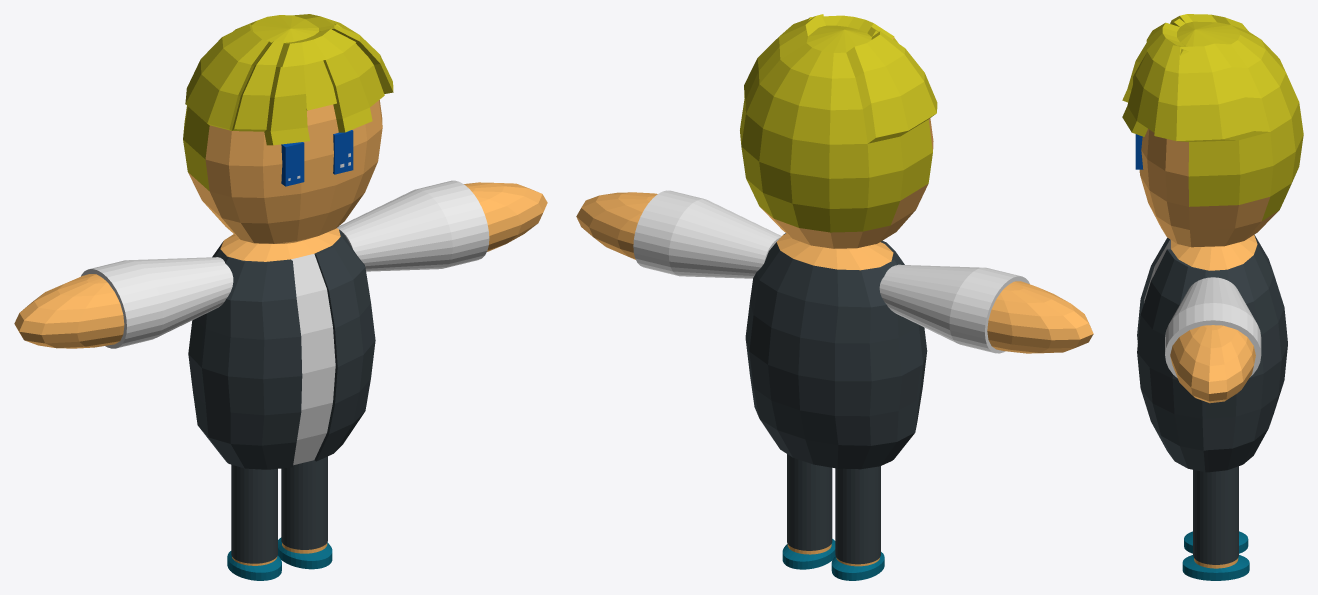
File: Nanda.glb
The picture shows the model from 3 angles, left to right: view 1: azimuth 30°, elevation 25°; view 2: azimuth 150°, elevation 25°; view 3: azimuth 270°, elevation 25°; orthographic projection. The views are drawn at different scales.
Visible parts, largest first — view 1: head.006, body.006, rightArm.006, leftArm.006, rightLeg.006, leftLeg.006; view 2: head.006, body.006, rightArm.006, leftArm.006, rightLeg.006, leftLeg.006; view 3: head.006, body.006, leftArm.006, leftLeg.006, rightLeg.006.
Boxes of the visible parts, x1=… form: head.006: x1=183, y1=14, x2=393, y2=243; body.006: x1=188, y1=228, x2=375, y2=469; rightArm.006: x1=14, y1=257, x2=233, y2=348; leftArm.006: x1=337, y1=180, x2=547, y2=271; rightLeg.006: x1=227, y1=464, x2=281, y2=580; leftLeg.006: x1=278, y1=456, x2=332, y2=569; head.006: x1=740, y1=14, x2=937, y2=248; body.006: x1=745, y1=233, x2=927, y2=469; rightArm.006: x1=879, y1=264, x2=1093, y2=353; leftArm.006: x1=576, y1=190, x2=781, y2=278; rightLeg.006: x1=831, y1=466, x2=884, y2=580; leftLeg.006: x1=782, y1=454, x2=835, y2=569; head.006: x1=1122, y1=14, x2=1303, y2=247; body.006: x1=1137, y1=234, x2=1287, y2=472; leftArm.006: x1=1165, y1=277, x2=1261, y2=403; leftLeg.006: x1=1182, y1=466, x2=1249, y2=580; rightLeg.006: x1=1184, y1=531, x2=1248, y2=553.
Size of the model in its own units: 1.68 by 1.64 by 0.5102.
